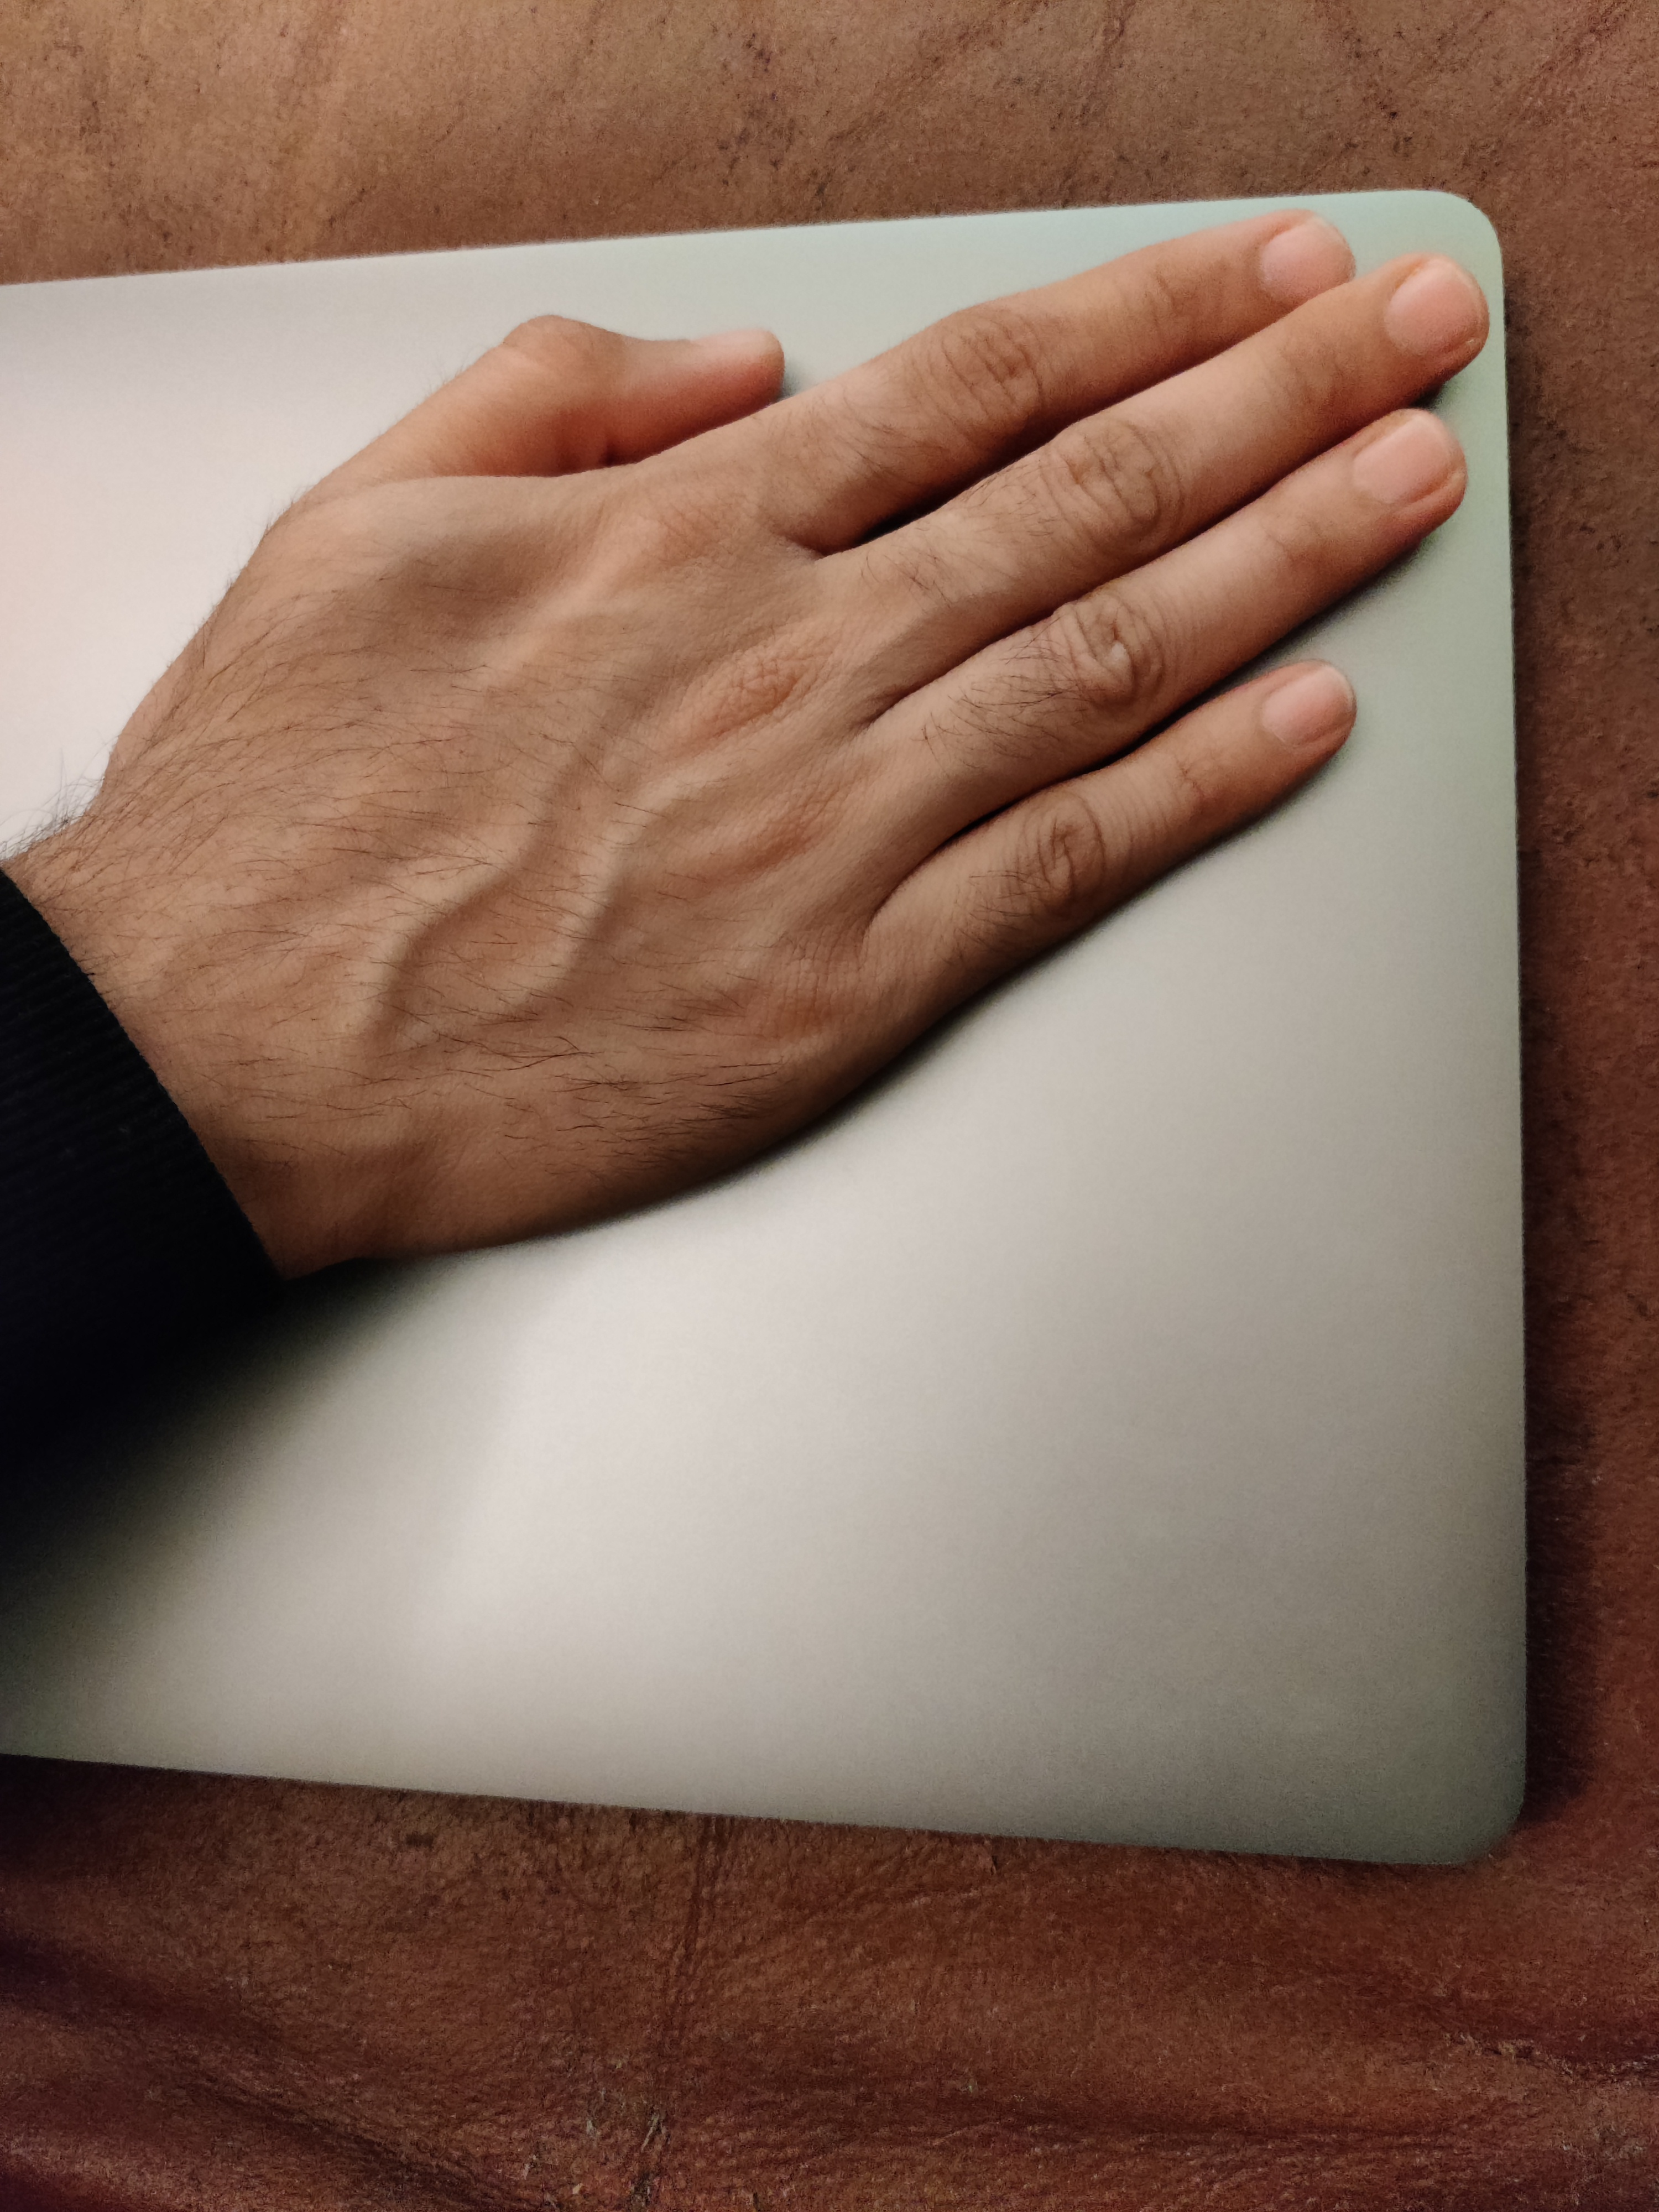left: (80, 152, 1520, 1240)
